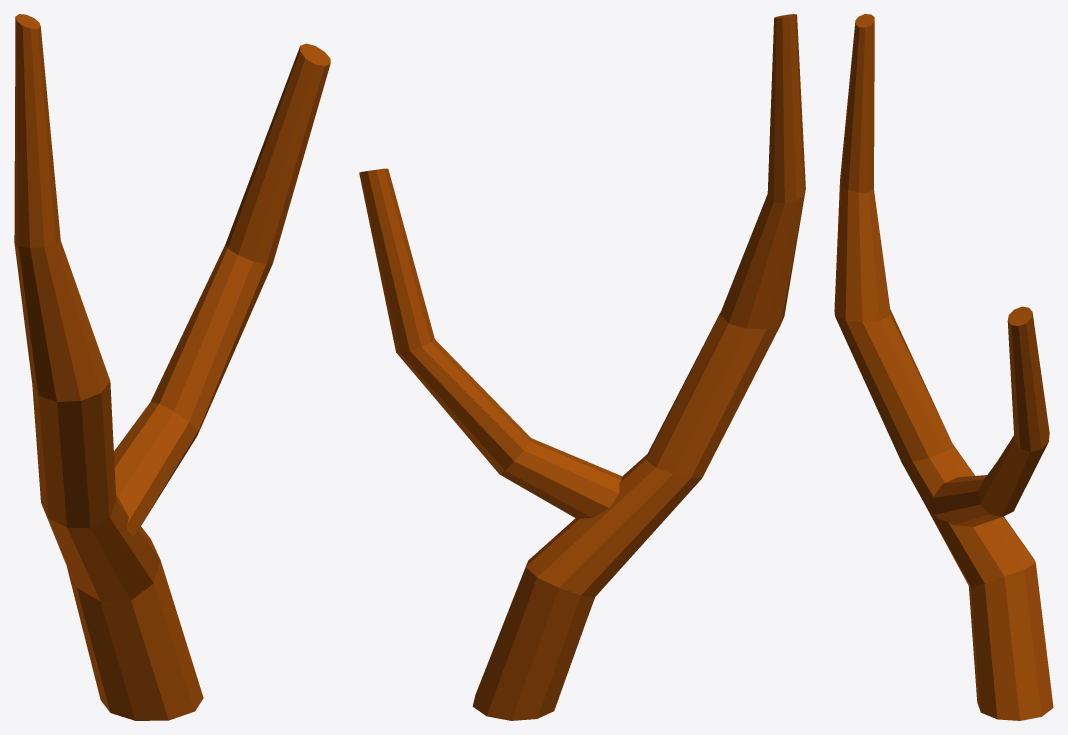
Rendered from fear.glb.
The picture shows the model from 3 angles, left to right: view 1: azimuth 30°, elevation 25°; view 2: azimuth 150°, elevation 25°; view 3: azimuth 270°, elevation 25°; orthographic projection. The views are drawn at different scales.
Parts seen in each view (by area): view 1: ziran.821; view 2: ziran.821; view 3: ziran.821.
Part boxes in pixels (x1,y1,x2,y2): ziran.821: (14, 14, 330, 720); ziran.821: (359, 14, 805, 720); ziran.821: (834, 14, 1053, 720).
Size of the model in its own units: 1.37 by 2.51 by 0.823.
1 material, 1 textured.
